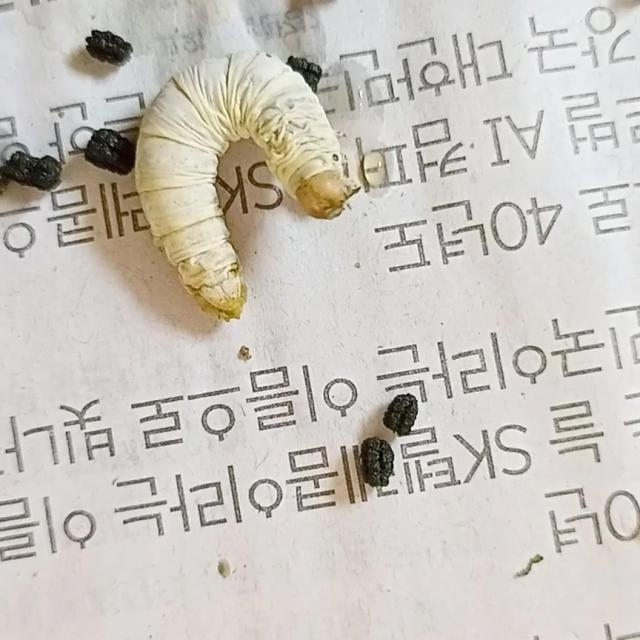Grasserie: (125, 42, 362, 328)
